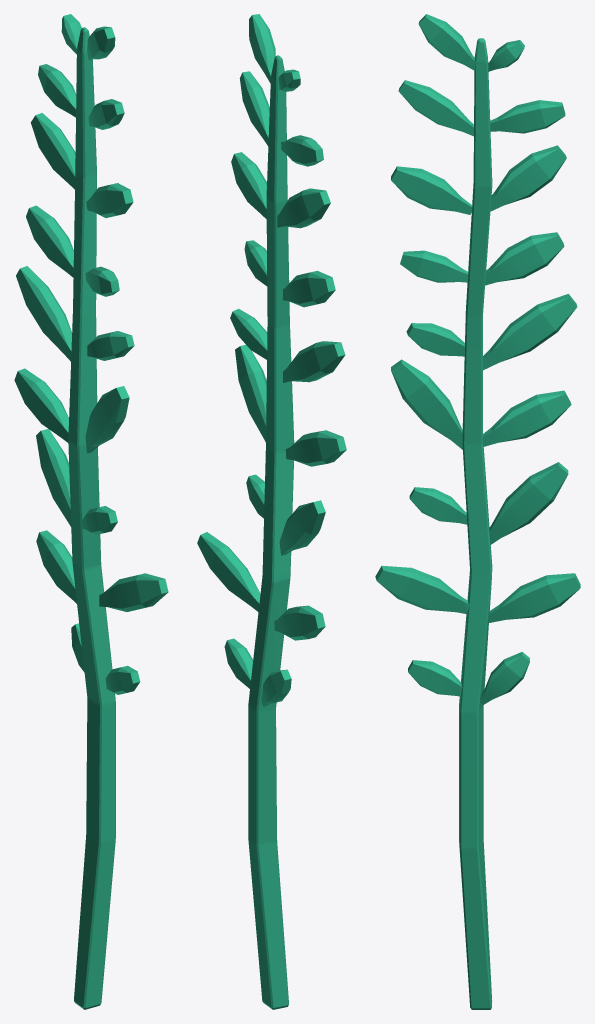
File: kelp1Coloured.gltf
3 renders of one model, left to right at view 1: azimuth 30°, elevation 25°; view 2: azimuth 210°, elevation 25°; view 3: azimuth 270°, elevation 25°, orthographic. The views are drawn at different scales.
Bounding box in the file's own units: 0.3075 × 5.14 × 0.9692.
